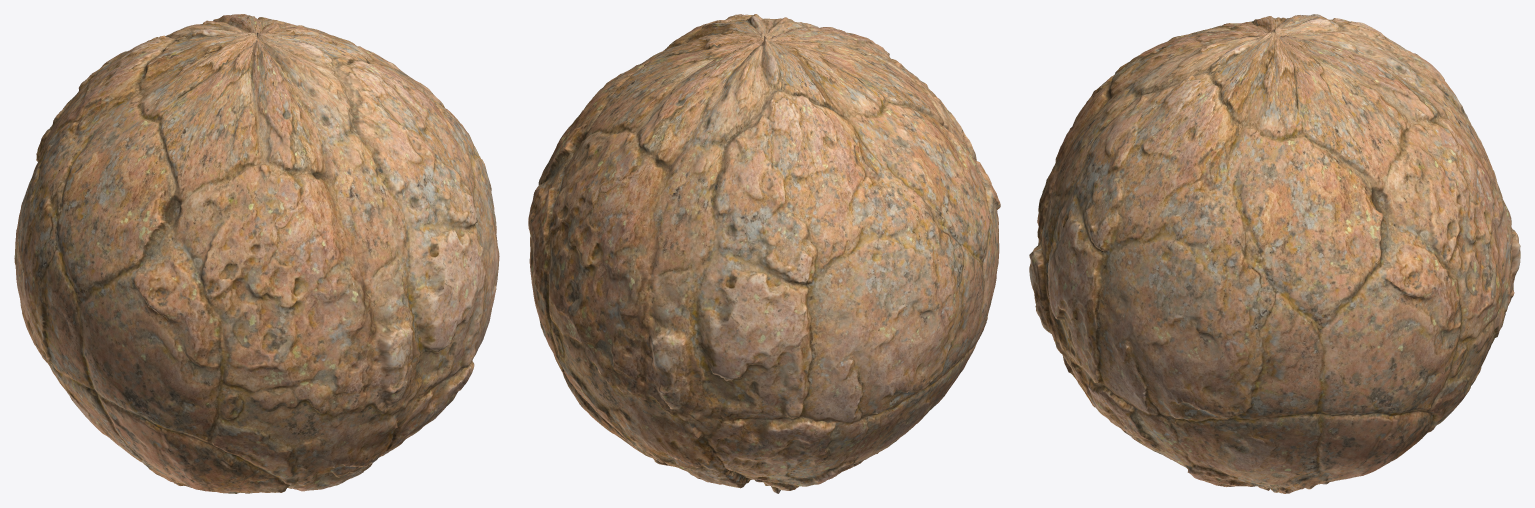
Rendered from rock_pitted_mossy_1k.gltf.
3 renders of one model, left to right at view 1: azimuth 30°, elevation 25°; view 2: azimuth 150°, elevation 25°; view 3: azimuth 270°, elevation 25°, orthographic. The views are drawn at different scales.
Visible parts, largest first — view 1: sphere_gltf; view 2: sphere_gltf; view 3: sphere_gltf.
Part boxes in pixels (x1,y1,x2,y2): sphere_gltf: (14,14,499,493); sphere_gltf: (528,14,1000,493); sphere_gltf: (1029,14,1520,493).
Size of the model in its own units: 1.01 by 1.03 by 1.03.
1 material, 1 textured.
